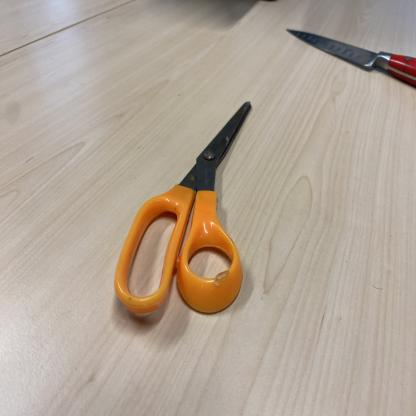Knife: (284, 28, 416, 89)
scissors: (113, 100, 254, 318)
